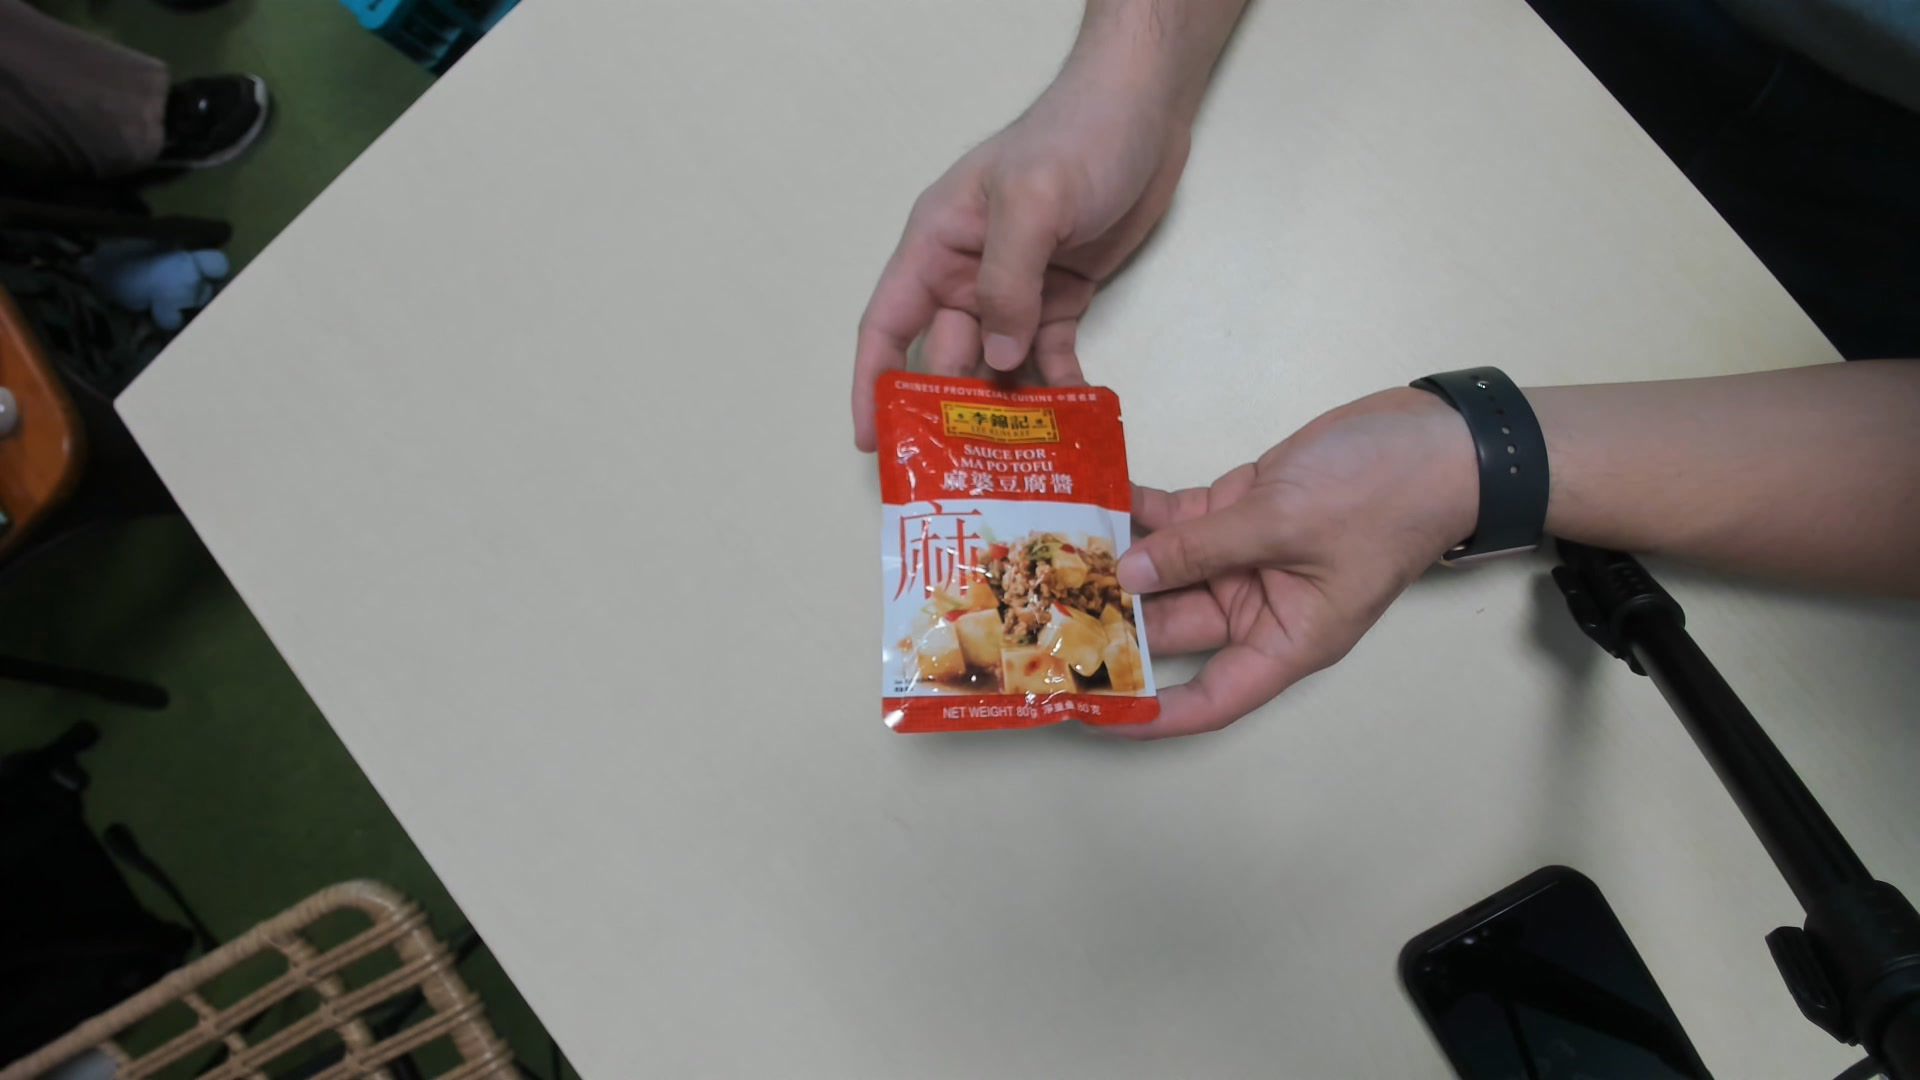OtherSauceDressing_0-99g_NonHalal_NonHealthy: (865, 371, 1160, 742)
